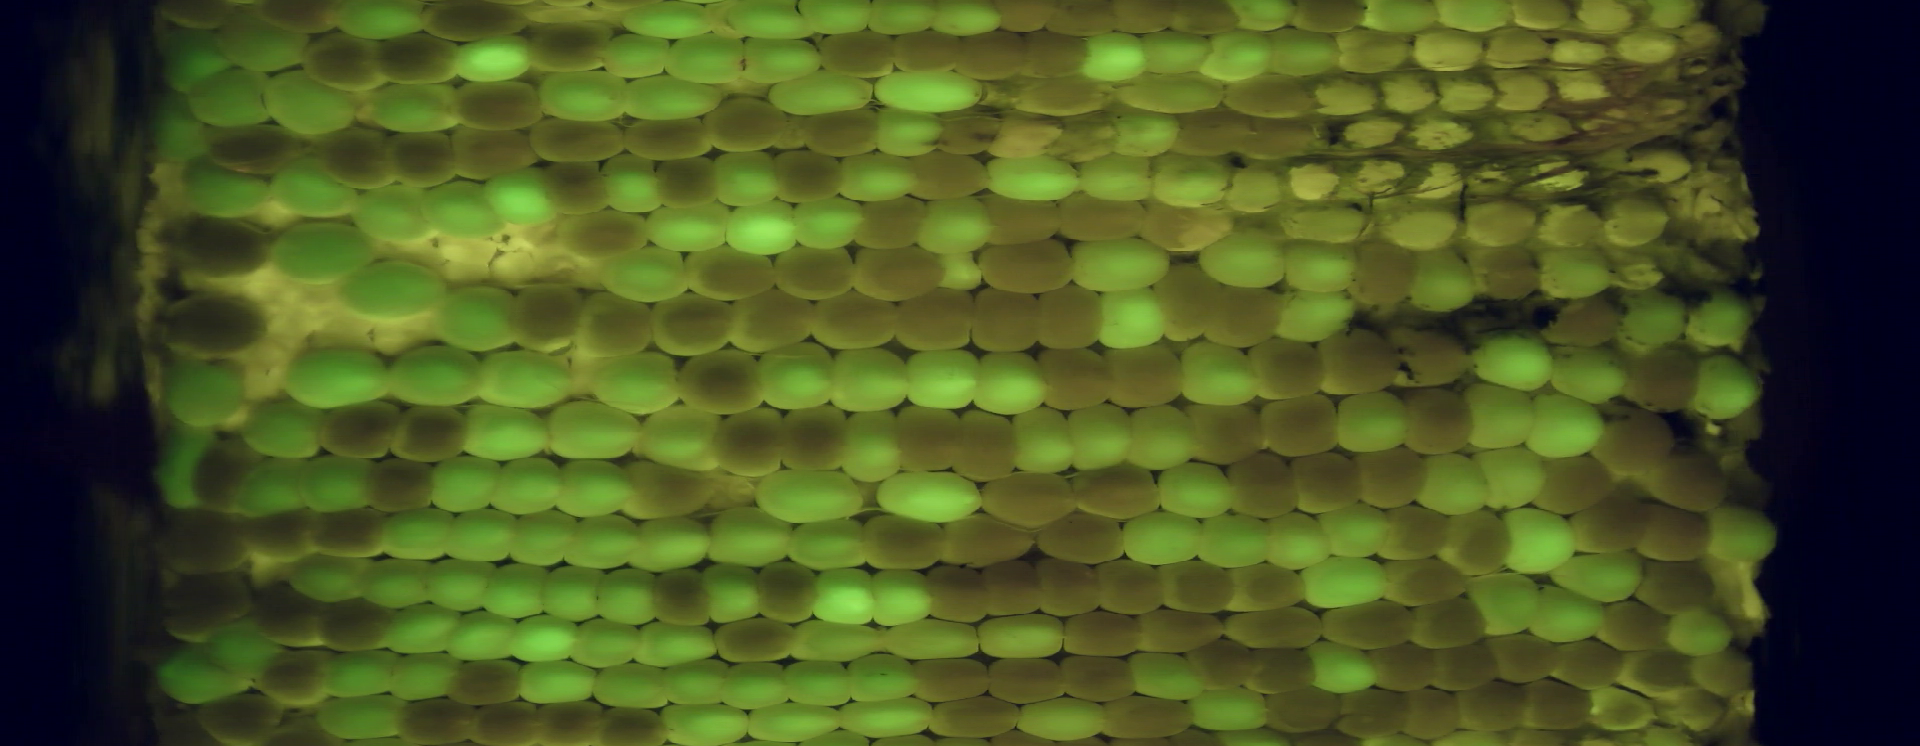fluorescent: (212, 2, 313, 82), (255, 66, 362, 140), (336, 257, 453, 323), (1064, 228, 1174, 298), (279, 345, 394, 412), (267, 217, 376, 287), (378, 338, 485, 409), (752, 465, 869, 529), (1172, 333, 1267, 410), (470, 345, 579, 413), (542, 394, 649, 463), (152, 419, 224, 519), (632, 401, 729, 475), (151, 644, 263, 707), (429, 282, 525, 354), (411, 176, 511, 246), (264, 154, 365, 223), (175, 156, 276, 223), (1464, 322, 1561, 392), (1456, 379, 1540, 458), (752, 339, 839, 416), (1460, 565, 1545, 642), (1195, 230, 1297, 295), (825, 342, 913, 416), (157, 356, 245, 431), (1466, 440, 1554, 514), (864, 64, 986, 118), (623, 513, 721, 579), (589, 349, 684, 416), (615, 71, 731, 126), (531, 66, 636, 127), (345, 183, 443, 247), (909, 189, 1000, 257), (873, 469, 984, 526), (1498, 503, 1580, 579), (458, 402, 557, 464), (632, 197, 735, 257), (899, 345, 987, 415), (198, 612, 291, 679), (972, 345, 1056, 419), (702, 505, 800, 567), (1296, 552, 1393, 615), (549, 454, 639, 522), (1543, 339, 1633, 407), (364, 78, 465, 138), (624, 514, 720, 578), (980, 149, 1090, 205), (1523, 391, 1610, 461), (1521, 583, 1611, 649), (446, 26, 539, 89), (836, 403, 907, 486), (1111, 69, 1228, 119), (184, 66, 278, 129), (1151, 457, 1242, 522), (478, 160, 563, 229), (227, 451, 312, 519), (422, 450, 508, 518), (1547, 550, 1644, 610), (1118, 508, 1213, 570), (1413, 447, 1494, 519), (596, 243, 696, 301), (295, 451, 383, 517), (1329, 388, 1413, 457), (1689, 348, 1764, 424), (1007, 402, 1081, 479), (1271, 285, 1363, 348), (146, 87, 216, 169), (764, 69, 878, 119), (1275, 234, 1368, 295), (156, 24, 235, 96), (1702, 499, 1782, 570), (1149, 148, 1240, 209), (310, 693, 416, 746), (242, 397, 326, 464), (969, 609, 1073, 663), (656, 31, 753, 88), (1064, 401, 1139, 474), (595, 148, 671, 220), (504, 500, 580, 572), (879, 615, 986, 666), (1403, 241, 1473, 320), (1093, 285, 1173, 354), (1123, 401, 1202, 469), (735, 31, 827, 89), (1258, 506, 1336, 575), (1314, 501, 1400, 563), (786, 187, 869, 251), (1685, 279, 1761, 349), (378, 599, 467, 659), (282, 552, 380, 606), (1011, 693, 1116, 744), (561, 511, 643, 575), (1191, 27, 1278, 87), (831, 146, 920, 205), (781, 517, 873, 573), (1123, 644, 1207, 706), (804, 562, 882, 628), (485, 453, 564, 517), (629, 617, 721, 673), (1195, 510, 1276, 572), (320, 644, 409, 701), (722, 191, 798, 257), (1620, 284, 1696, 350), (742, 699, 850, 746), (708, 146, 785, 211), (440, 506, 518, 570), (785, 616, 884, 666), (476, 560, 553, 624), (1536, 245, 1620, 303), (1260, 21, 1348, 76), (563, 612, 644, 673), (1180, 684, 1275, 735), (656, 699, 760, 746), (585, 660, 677, 713), (588, 565, 664, 628), (501, 611, 587, 668), (842, 648, 928, 704), (1300, 637, 1382, 696), (533, 562, 610, 625), (382, 649, 465, 707), (697, 559, 765, 628), (1078, 149, 1162, 206), (321, 1, 429, 45), (371, 510, 463, 561), (440, 606, 517, 668), (422, 559, 502, 617), (831, 695, 940, 737), (513, 657, 604, 708), (350, 556, 436, 610), (1104, 105, 1188, 160), (873, 100, 945, 163), (864, 567, 938, 628), (715, 657, 792, 714), (1660, 601, 1738, 659), (612, 1, 715, 44), (598, 29, 677, 85), (715, 1, 817, 44), (778, 657, 856, 712), (658, 655, 736, 709), (1076, 29, 1151, 86), (1223, 160, 1293, 220), (1138, 28, 1220, 75), (1354, 1, 1446, 39), (924, 1, 1008, 39), (792, 1, 874, 39), (1431, 1, 1522, 34), (861, 1, 940, 38), (929, 247, 991, 292), (1224, 1, 1303, 36), (1640, 1, 1711, 32)
nonfluorescent: (147, 506, 256, 584), (151, 293, 276, 359), (1584, 394, 1680, 479), (167, 212, 276, 285), (1524, 446, 1627, 523), (156, 568, 258, 644), (612, 453, 720, 526), (667, 345, 773, 418), (972, 468, 1087, 533), (804, 285, 909, 356), (1615, 339, 1708, 418), (501, 277, 589, 359), (1381, 316, 1476, 392), (725, 285, 824, 356), (844, 239, 951, 304), (1625, 494, 1717, 570), (1314, 594, 1425, 657), (1180, 397, 1273, 472), (249, 575, 336, 654), (1063, 461, 1169, 526), (1029, 342, 1119, 418), (1562, 488, 1654, 562), (889, 397, 973, 478), (647, 289, 741, 361), (1151, 260, 1227, 349), (1315, 325, 1404, 401), (571, 289, 661, 364), (972, 238, 1082, 299), (187, 434, 268, 517), (936, 511, 1041, 575), (1395, 382, 1484, 457), (948, 404, 1027, 488), (231, 502, 331, 568), (202, 120, 316, 178), (680, 243, 786, 304), (1098, 341, 1190, 412), (446, 120, 542, 187), (1255, 390, 1344, 462), (1646, 443, 1735, 516), (889, 284, 980, 355), (298, 31, 393, 98), (311, 397, 407, 464), (245, 643, 337, 713), (1200, 283, 1293, 352), (1217, 448, 1305, 521), (550, 205, 655, 265), (185, 691, 299, 746), (1133, 198, 1237, 258), (1031, 510, 1134, 570), (524, 113, 637, 167), (710, 404, 789, 481), (1435, 505, 1515, 581), (1375, 551, 1476, 611), (315, 126, 404, 194), (384, 399, 474, 467), (902, 146, 1000, 207), (853, 512, 951, 573), (1512, 673, 1603, 739), (767, 244, 862, 306), (1347, 441, 1434, 510), (446, 78, 551, 135), (1283, 447, 1365, 519), (976, 190, 1073, 251), (771, 403, 855, 474), (1635, 550, 1719, 620), (1478, 624, 1569, 688), (702, 92, 793, 156), (371, 28, 467, 89), (1534, 292, 1627, 354), (1051, 191, 1156, 246), (1243, 336, 1332, 401), (1346, 236, 1420, 314), (1031, 282, 1109, 355), (1217, 70, 1321, 125), (1152, 556, 1245, 617), (1222, 603, 1332, 654), (844, 194, 934, 256), (1007, 72, 1119, 122), (752, 557, 827, 632), (965, 283, 1044, 353), (305, 501, 392, 565), (313, 593, 400, 657), (522, 22, 622, 77), (1447, 676, 1536, 739), (1127, 604, 1231, 657), (415, 1, 533, 48), (705, 612, 804, 668), (1027, 556, 1108, 624), (1093, 693, 1204, 742), (1182, 631, 1262, 697), (906, 653, 1003, 708), (538, 156, 620, 220), (1371, 500, 1455, 563), (615, 114, 718, 165), (980, 109, 1071, 167), (644, 563, 722, 631), (1458, 191, 1543, 254), (359, 453, 444, 514), (1408, 595, 1495, 655), (920, 560, 994, 630), (1095, 555, 1171, 624), (1217, 560, 1311, 615), (1330, 682, 1418, 741), (440, 654, 531, 710), (380, 127, 460, 191), (1053, 649, 1142, 707), (1256, 682, 1349, 737), (1168, 107, 1262, 160), (1043, 109, 1125, 170), (1058, 608, 1151, 661), (924, 693, 1029, 741), (1589, 595, 1675, 653), (771, 145, 850, 207), (389, 692, 480, 746), (798, 105, 887, 160), (1396, 681, 1469, 746), (1544, 635, 1629, 691), (975, 557, 1049, 621), (980, 655, 1069, 708), (1365, 638, 1442, 698), (1240, 643, 1324, 698), (813, 28, 900, 81), (1618, 641, 1695, 699), (1473, 243, 1545, 305), (1018, 24, 1093, 83), (949, 29, 1030, 85), (1234, 115, 1324, 164), (525, 695, 610, 746), (456, 699, 549, 746), (928, 109, 1011, 160), (1690, 642, 1762, 701), (888, 27, 970, 78), (1424, 639, 1504, 692), (651, 153, 724, 211), (1476, 27, 1561, 72), (245, 1, 348, 38), (596, 701, 677, 746), (1664, 684, 1731, 733), (1044, 1, 1124, 42), (1162, 1, 1245, 39), (154, 1, 244, 36), (1283, 1, 1367, 38), (1102, 1, 1180, 39), (1507, 1, 1577, 34), (989, 1, 1054, 36)
